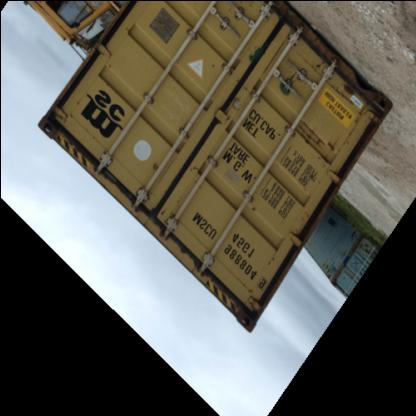Damage: (220, 274, 258, 328), (46, 114, 88, 160), (296, 127, 338, 165), (148, 152, 172, 182), (338, 78, 362, 108), (204, 54, 224, 78)
